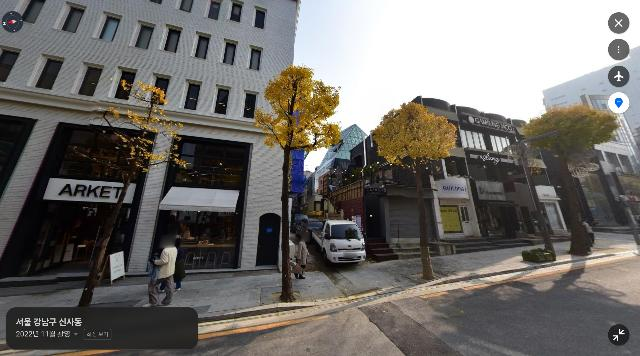ginkgo: (77, 78, 187, 308), (253, 63, 343, 303), (371, 101, 459, 281)
